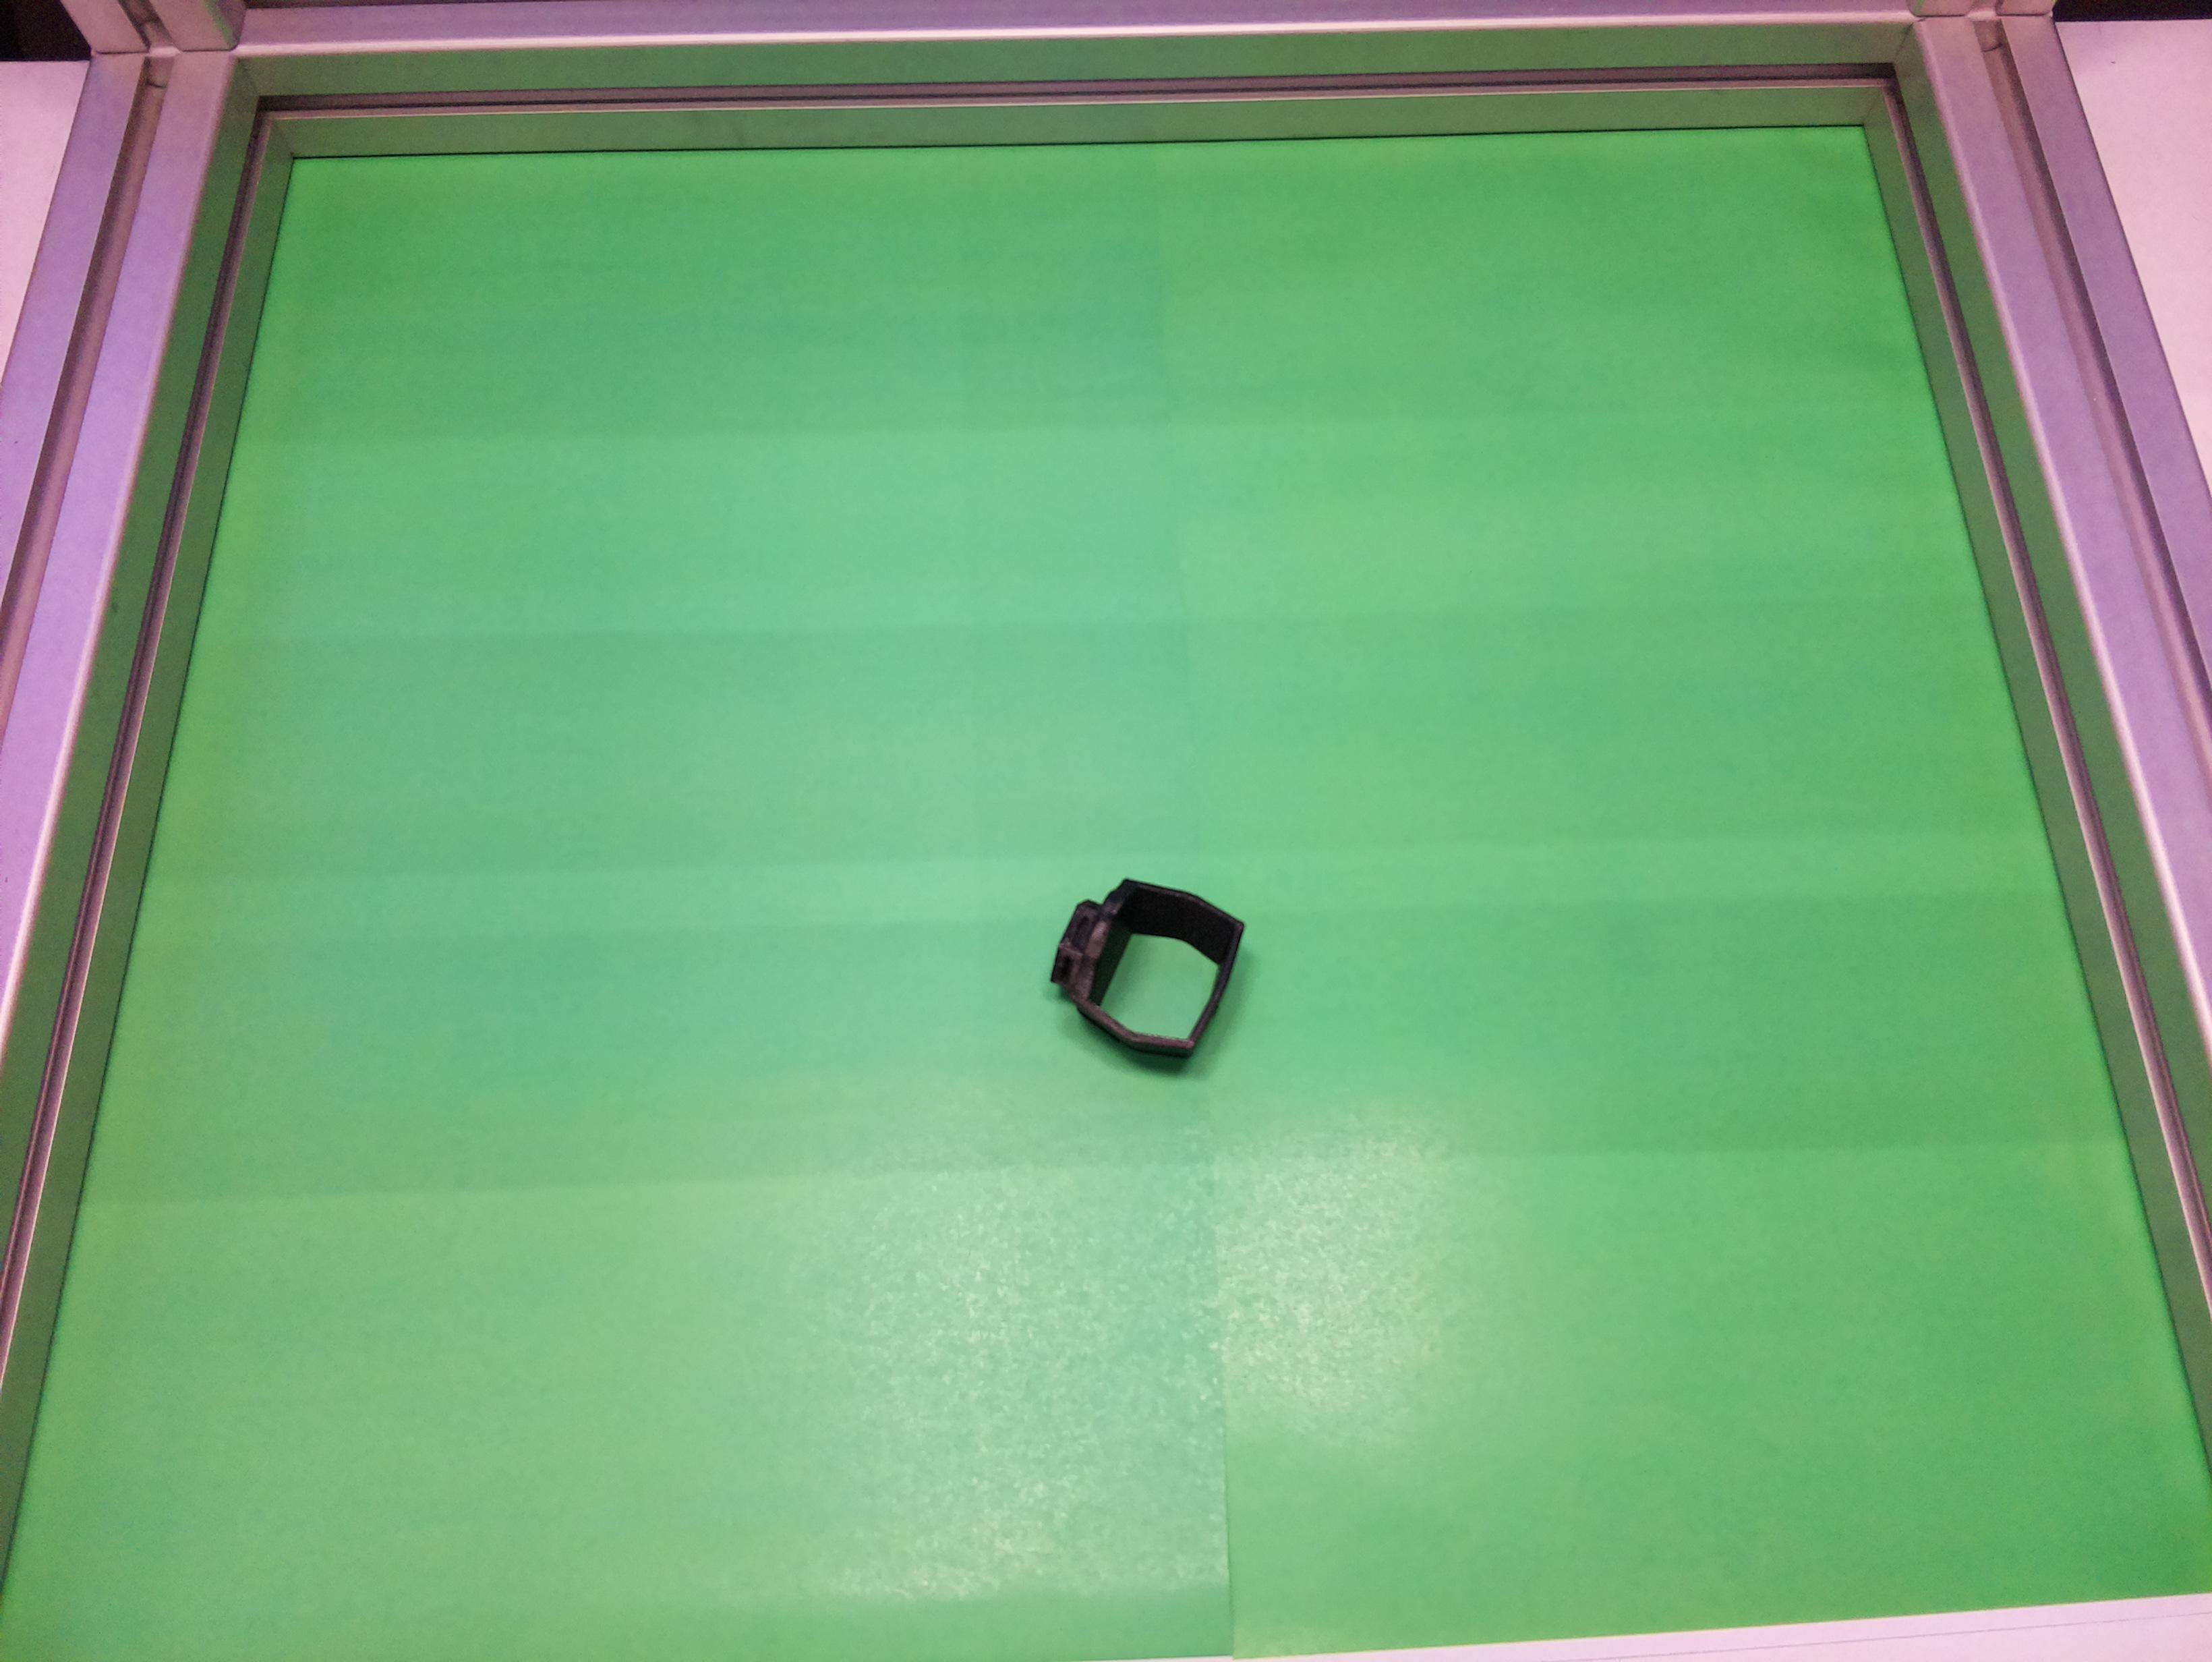scissor_holder: (1032, 854, 1255, 1074)
